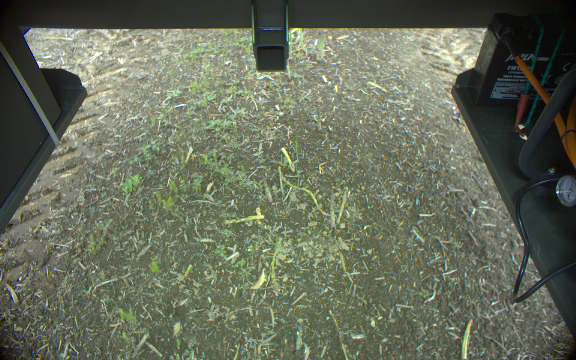aspa: (258, 168, 275, 203), (327, 189, 336, 230), (316, 29, 327, 56), (314, 107, 324, 132), (285, 58, 293, 84)
